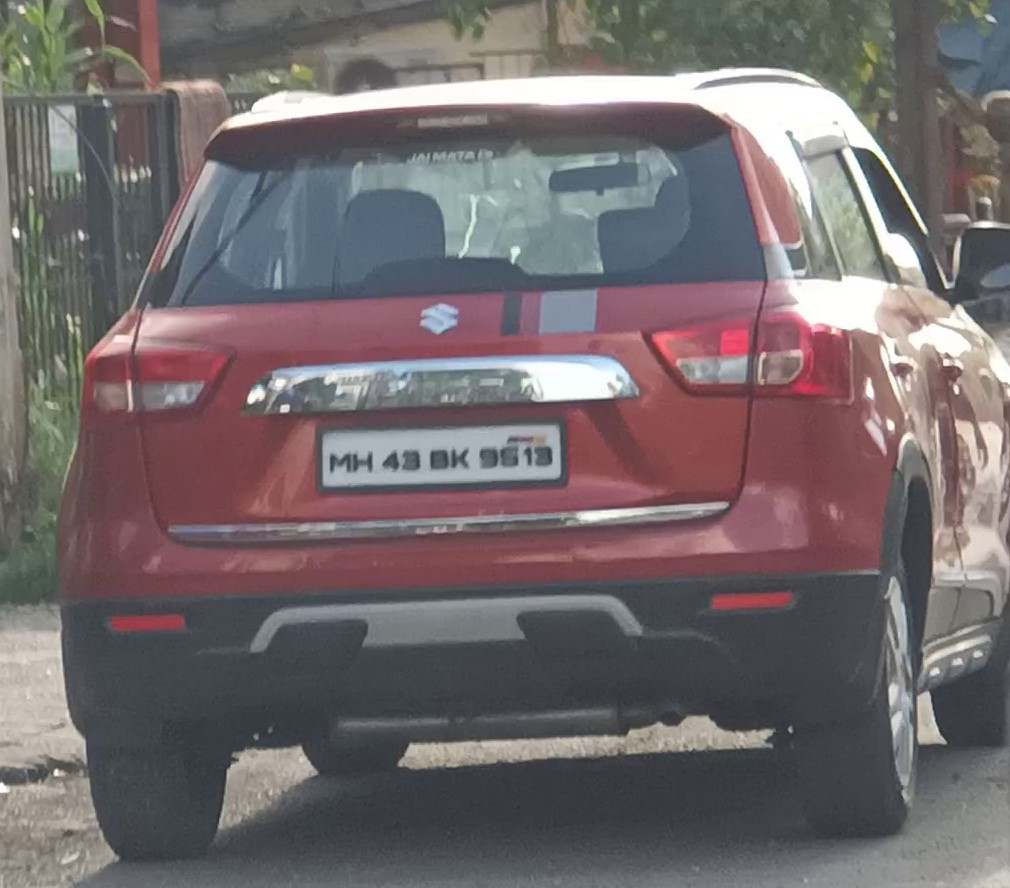MH43BK9513: (319, 423, 562, 483)
